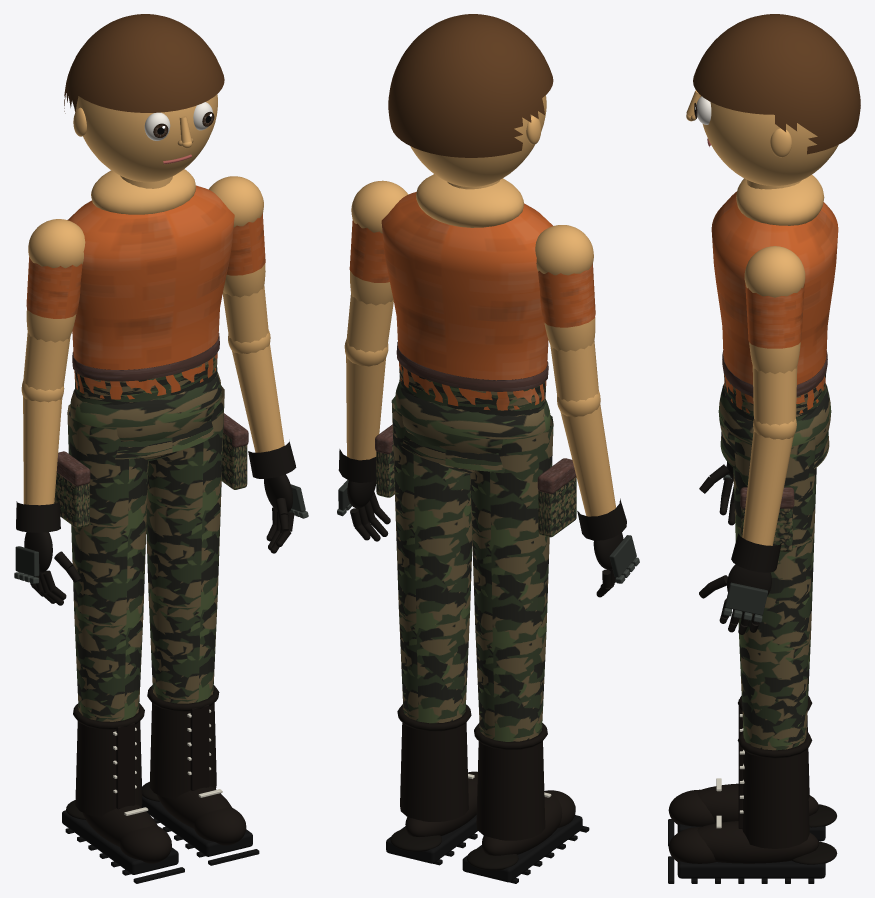
The model's file is 00-tee-shirt.glb.
3 renders of one model, left to right at view 1: azimuth 30°, elevation 25°; view 2: azimuth 150°, elevation 25°; view 3: azimuth 270°, elevation 25°, orthographic. The views are drawn at different scales.
Bounding box in the file's own units: 0.6344 × 1.77 × 0.3715.
22 materials, 4 textured.
